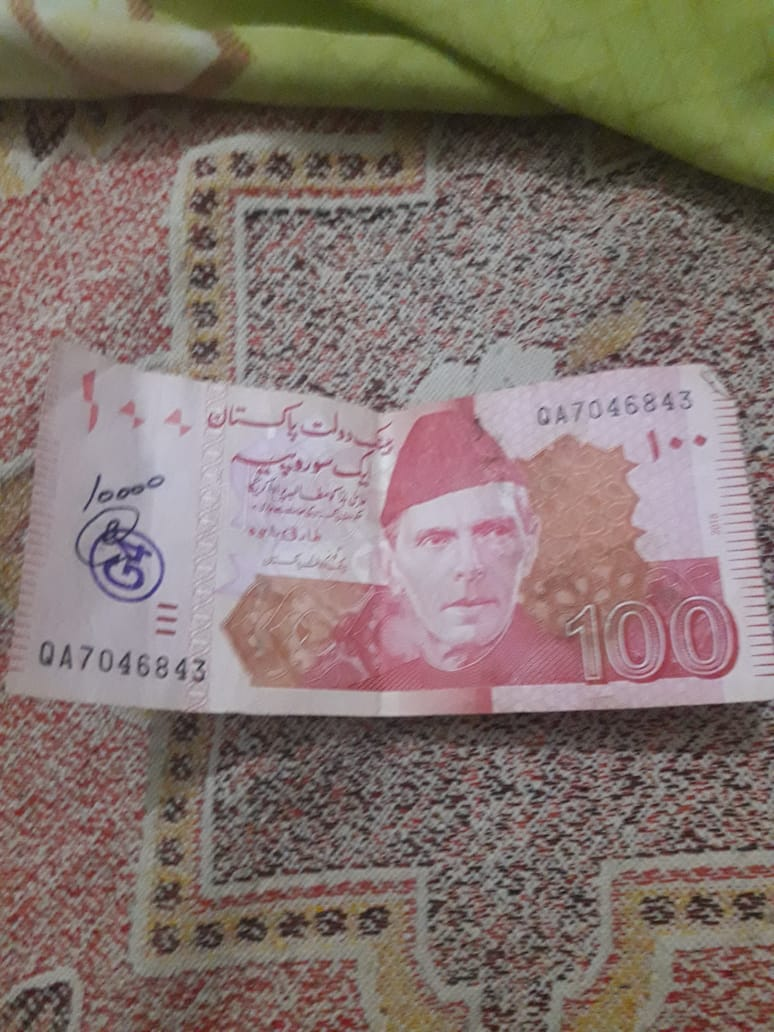100 rupee: (38, 329, 754, 740)
